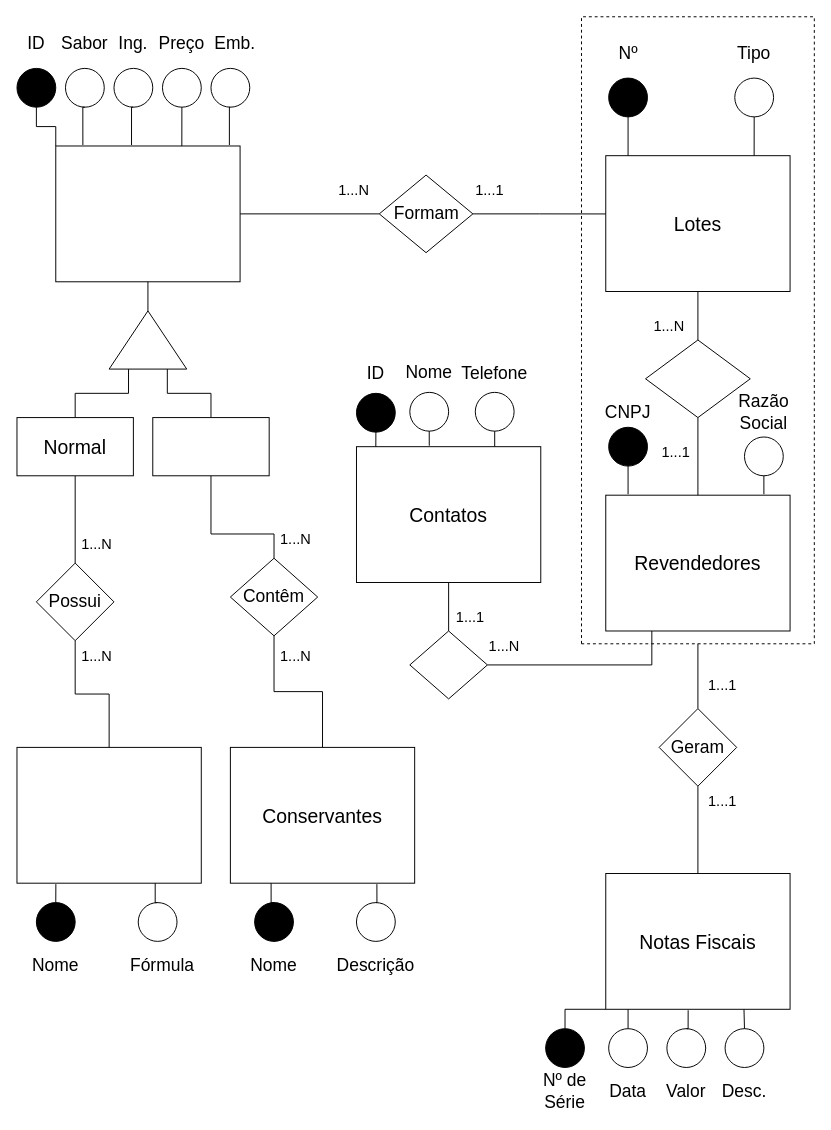
Image size: 831x1130. Some labels were removed from this diagram. The shapes that lost their labels are listed below. From the top down, each one's centre as x and y in pixels, then its label:
the point at 147,213: Picolés
the point at 697,378: Compram
the point at 210,446: Ao leite
the point at 448,664: Têm
the point at 108,814: Aditivos Nutritivos
